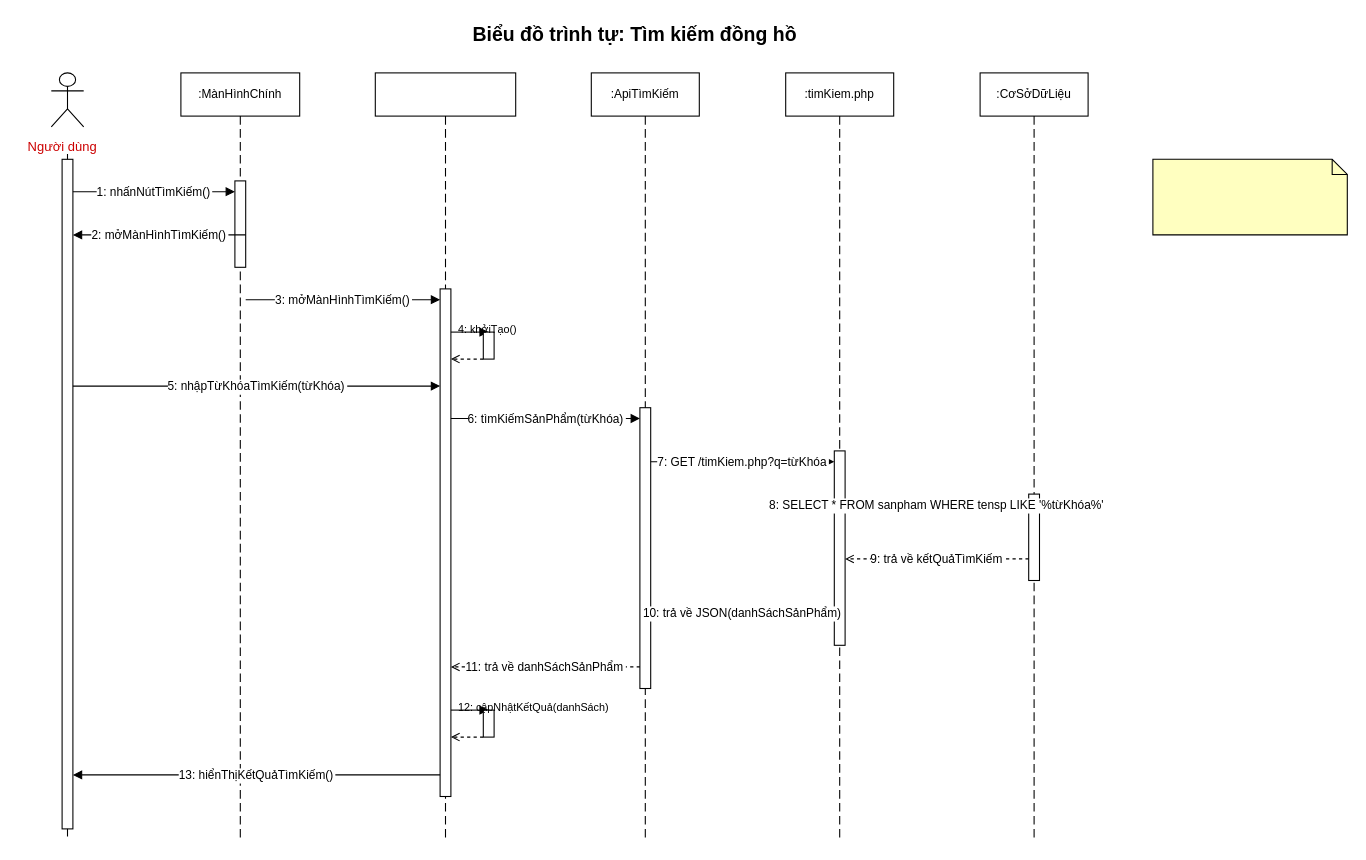
Image size: 1366x860. Some labels were removed from this diagram. The box of each missing label's shape, as (x1, y1, x2, y2) in pixels:
:MànHìnhTìmKiếm: (374, 72, 516, 116)
Biểu đồ UML chuẩn Tìm kiếm theo tên sản phẩm Hiển thị kết quả real-time: (1152, 158, 1347, 235)
